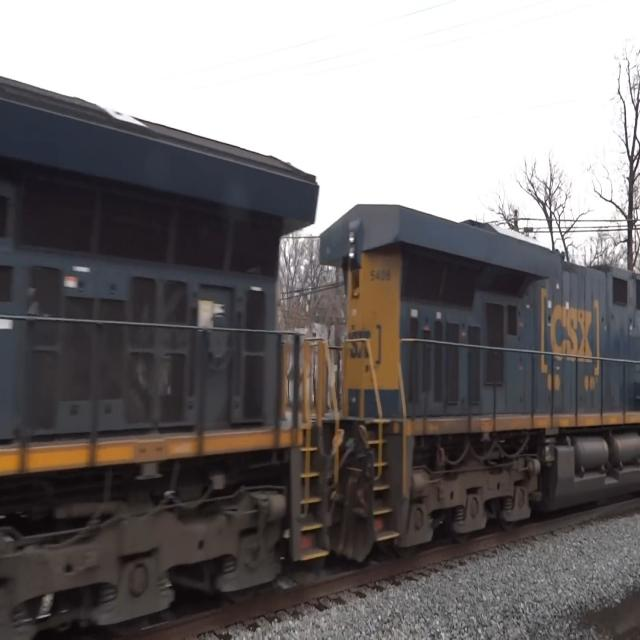locomotive: (0, 1, 329, 637), (322, 189, 639, 569)
